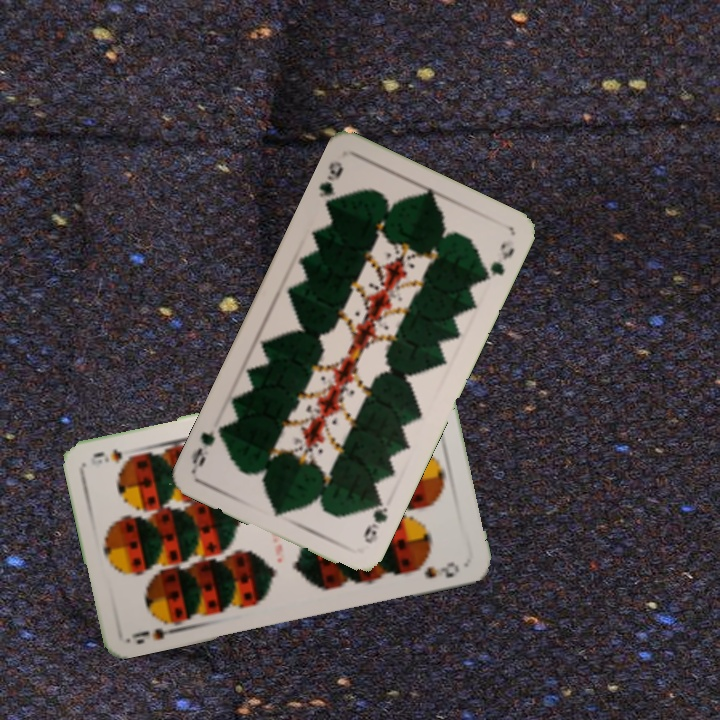G9: (315, 156, 346, 214), (359, 493, 390, 546)
S9: (125, 613, 184, 647)
